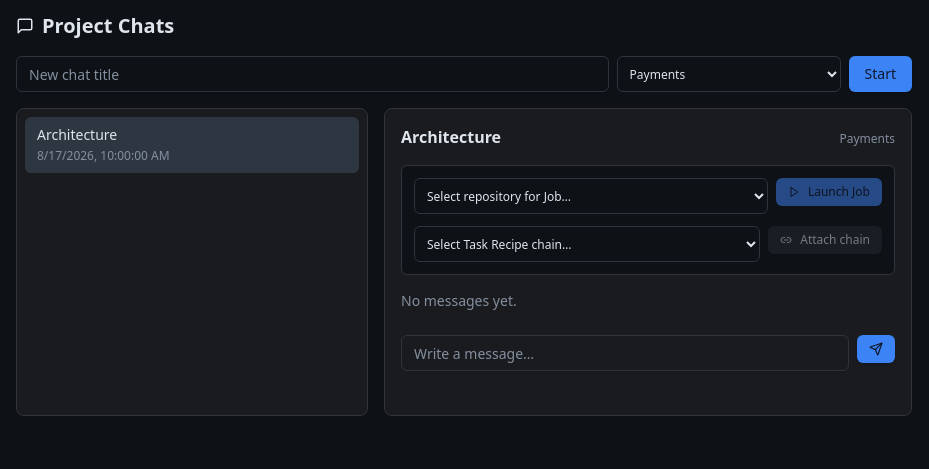
ProjectChats › shows an explicit assistant failure and keeps the draft for retry
Type "Try this" into the field with placeholder "Write a message…".
click(625, 353); type("Try this")  # box [401,335,849,371]
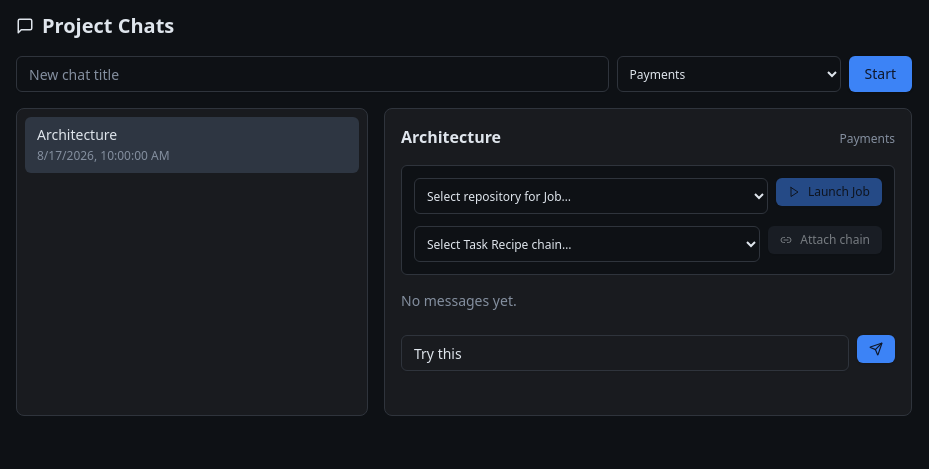
Click the button named "Send message".
click(876, 349)  # box [857,335,895,363]
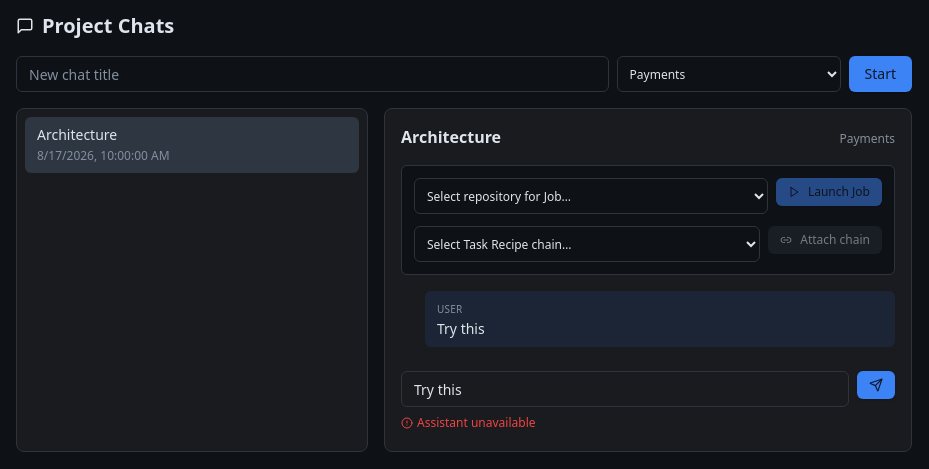
Expected: the text "Assistant unavailable" is shown, [401,415,536,431]
